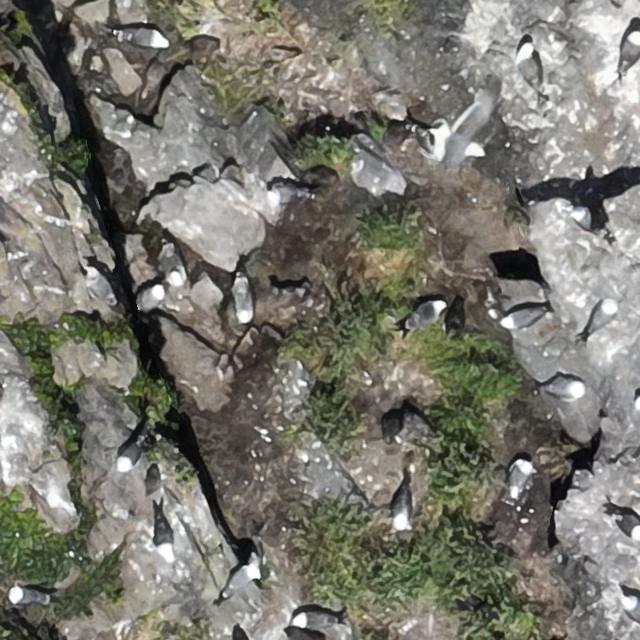F: (431, 100, 496, 167)
umineko: (503, 458, 532, 501), (159, 240, 184, 287), (118, 430, 145, 473), (154, 507, 175, 562), (226, 562, 256, 593), (408, 300, 442, 325), (588, 301, 612, 334), (234, 284, 253, 325), (124, 28, 165, 47), (545, 378, 583, 398), (520, 50, 540, 88), (612, 511, 640, 537), (292, 612, 331, 630), (392, 490, 410, 529), (502, 308, 537, 328), (10, 586, 46, 604), (269, 186, 303, 205), (622, 31, 639, 68), (142, 286, 163, 307), (624, 597, 639, 625)
